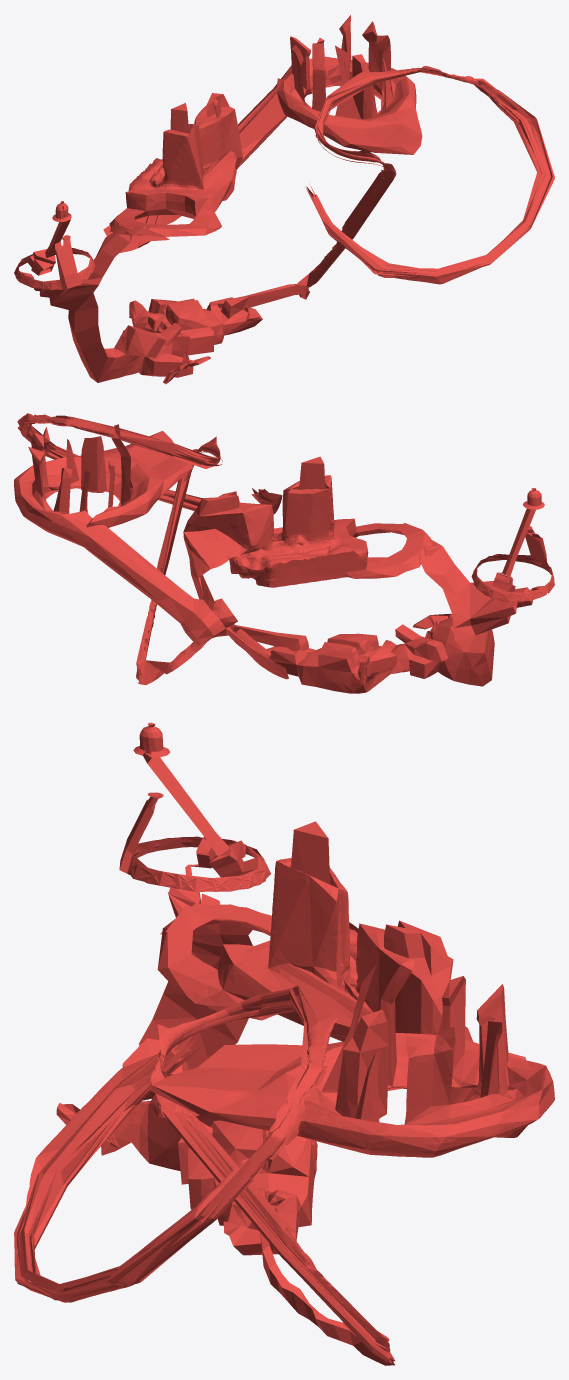
3 renders of one model, top to bottom at view 1: azimuth 30°, elevation 25°; view 2: azimuth 150°, elevation 25°; view 3: azimuth 270°, elevation 25°, orthographic. The views are drawn at different scales.
Visible parts, largest first — view 1: Cube; view 2: Cube; view 3: Cube.
Part boxes in pixels (x1,y1,x2,y2): Cube: (14,15,554,384); Cube: (14,413,554,693); Cube: (14,722,554,1365).
Bounding box in the file's own units: 6925 × 3126 × 3597.
